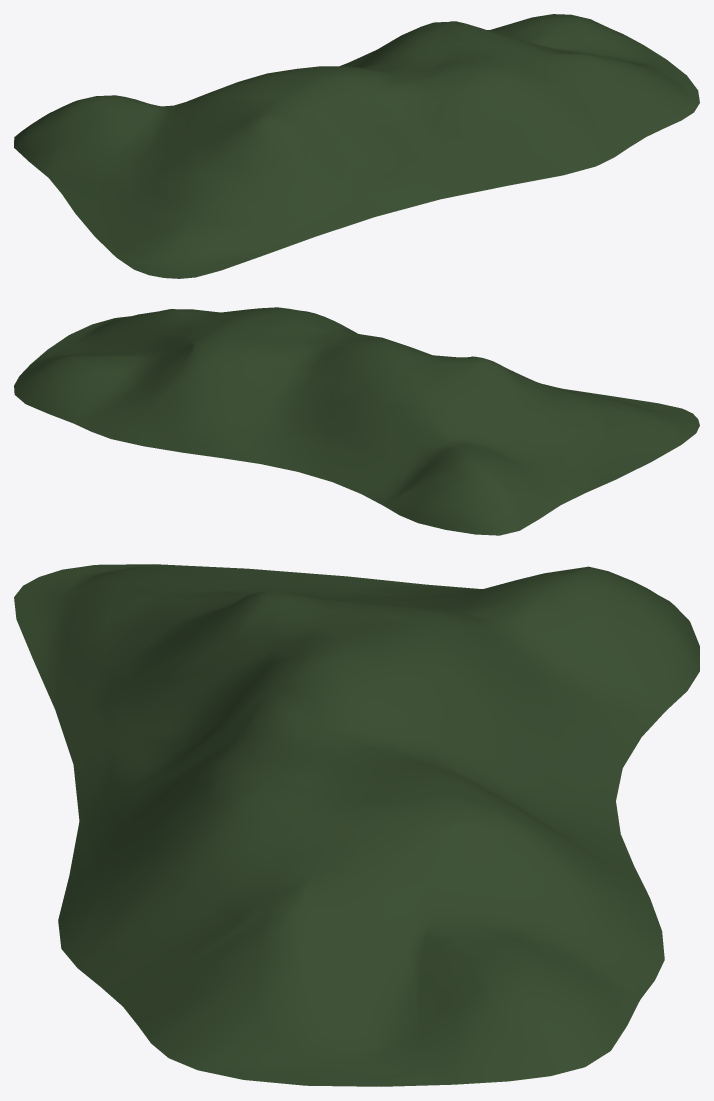
File: SM_Generic_Mountains_Soft_01.fbx
3 renders of one model, top to bottom at view 1: azimuth 30°, elevation 25°; view 2: azimuth 150°, elevation 25°; view 3: azimuth 270°, elevation 25°, orthographic. The views are drawn at different scales.
Visible parts, largest first — view 1: SM_Generic_Mountains_Soft_01; view 2: SM_Generic_Mountains_Soft_01; view 3: SM_Generic_Mountains_Soft_01.
Boxes of the visible parts, x1,y1,x2,y2 form: SM_Generic_Mountains_Soft_01: [14, 14, 699, 278]; SM_Generic_Mountains_Soft_01: [14, 307, 699, 535]; SM_Generic_Mountains_Soft_01: [14, 564, 699, 1086].
Size of the model in its own units: 3859 by 475 by 2141.
